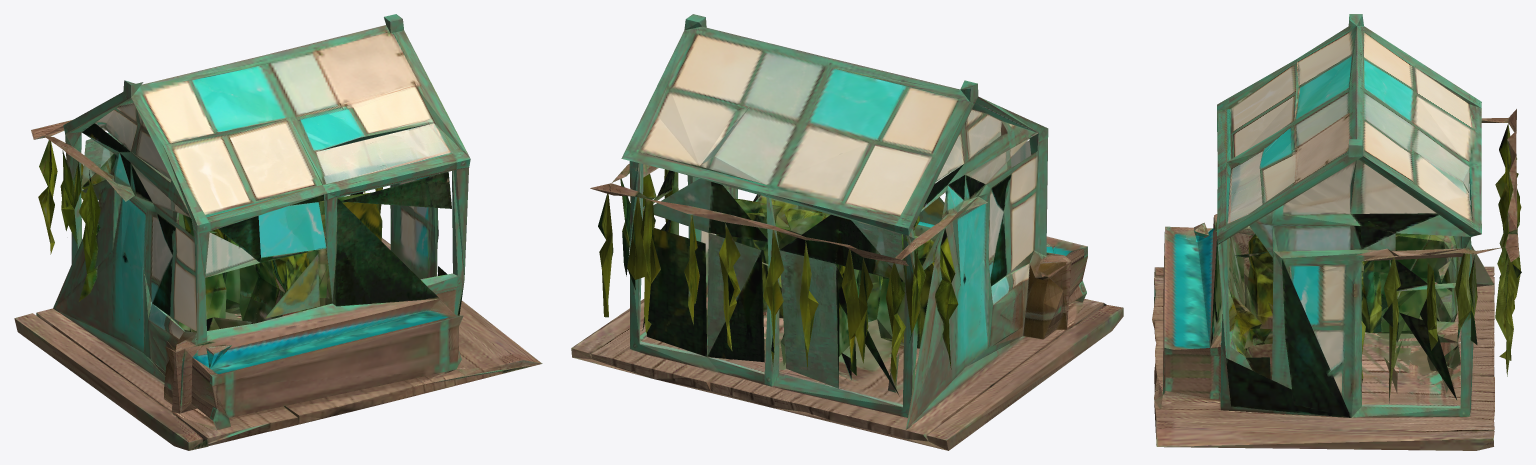
Rendered from greenhouse.glb.
3 renders of one model, left to right at view 1: azimuth 30°, elevation 25°; view 2: azimuth 150°, elevation 25°; view 3: azimuth 270°, elevation 25°, orthographic. The views are drawn at different scales.
Bounding box in the file's own units: 1.9 × 1.46 × 1.71.
1 material, 1 textured.
